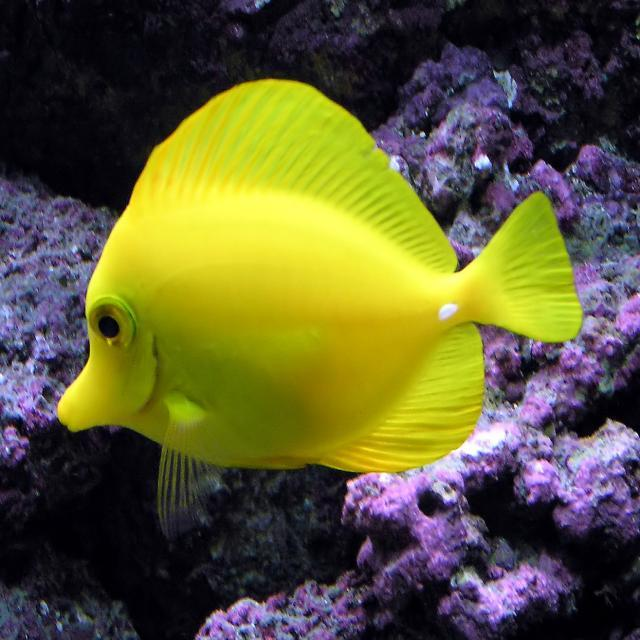YellowTang: (42, 72, 595, 536)
